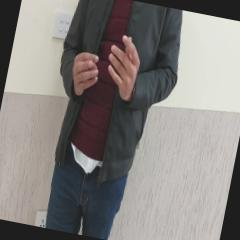not-gloved: (100, 32, 144, 102), (68, 50, 100, 98)
